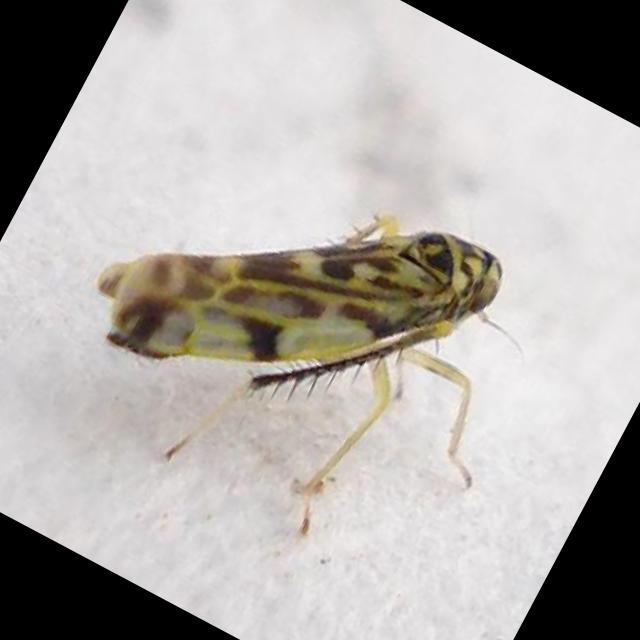green-leafhopper: (91, 216, 503, 542)
